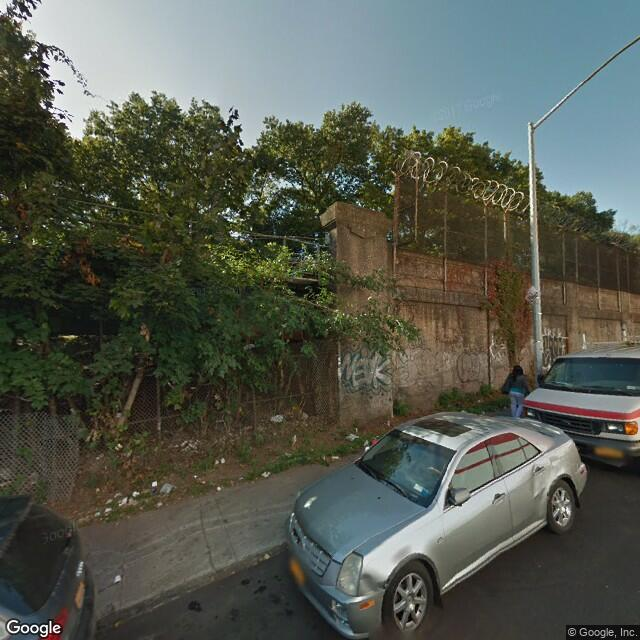litter: (158, 485, 174, 492), (117, 499, 128, 506), (359, 442, 371, 448), (261, 550, 270, 557), (346, 433, 355, 440), (113, 574, 122, 580), (131, 492, 138, 498), (263, 468, 269, 474), (201, 478, 207, 484), (331, 454, 337, 459), (153, 501, 162, 504), (192, 471, 197, 476), (104, 508, 109, 512), (94, 509, 97, 515), (216, 486, 219, 490), (214, 460, 217, 463), (222, 458, 224, 462), (482, 410, 483, 412)
